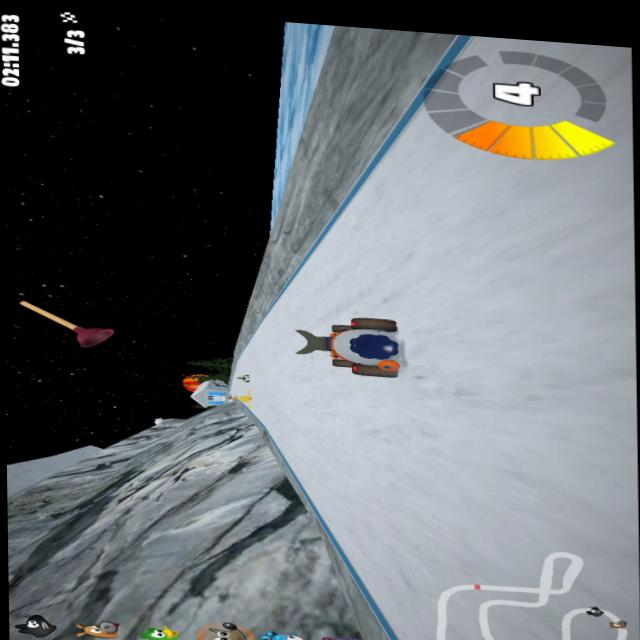enemy_kart: (233, 374, 253, 383)
obstacle: (234, 390, 256, 408)
player_kart: (298, 311, 412, 382)
track: (445, 54, 640, 640), (305, 375, 455, 518), (344, 195, 444, 319), (376, 513, 451, 615), (371, 132, 439, 201), (398, 315, 444, 389), (303, 237, 346, 310), (329, 507, 377, 550), (280, 377, 305, 453), (246, 331, 296, 363), (230, 361, 297, 376), (257, 376, 275, 421), (266, 307, 291, 328), (290, 289, 303, 306), (230, 385, 258, 389)
